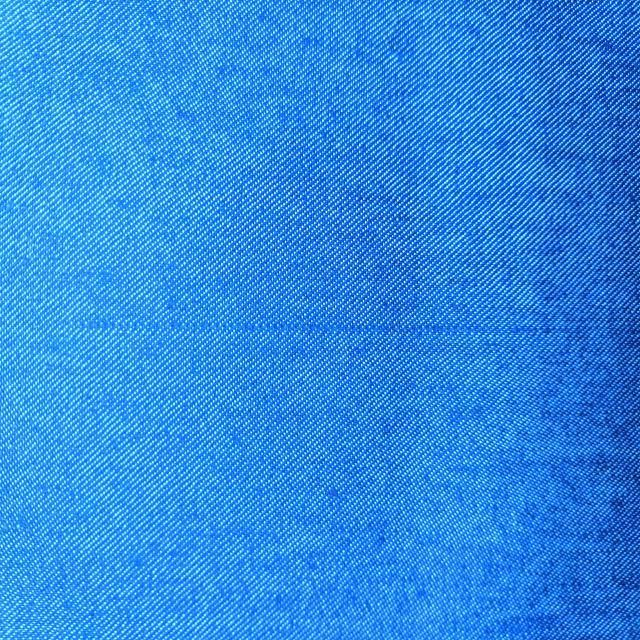Line: (68, 318, 574, 336)
